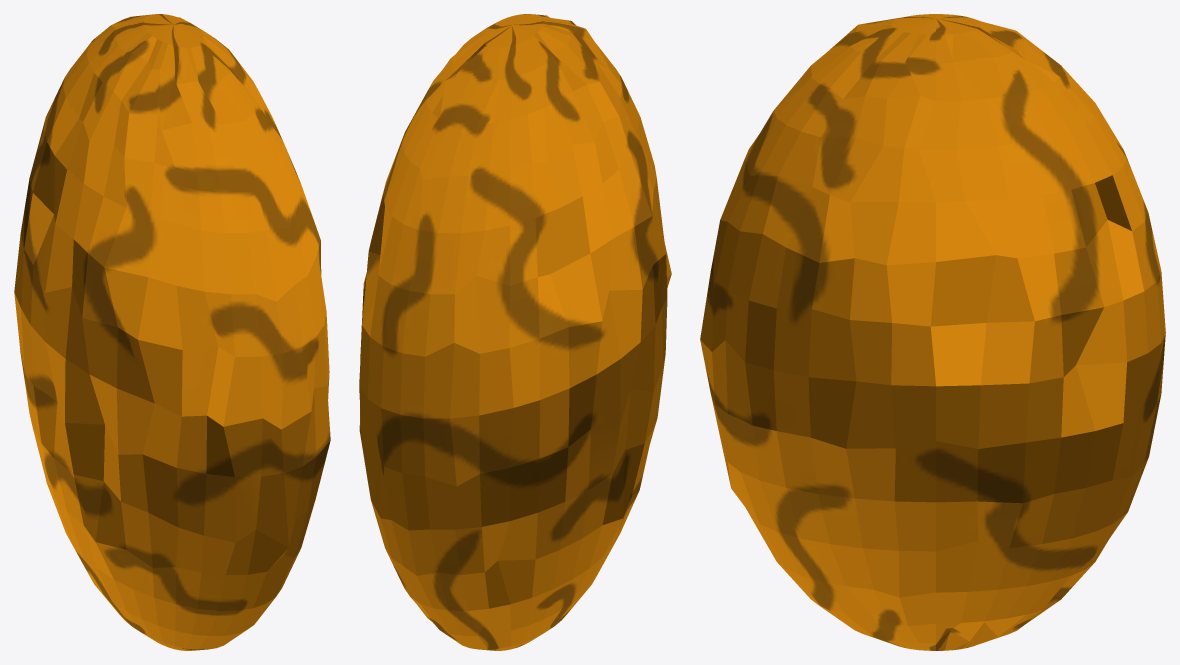
Rendered from item-chicken-nugget.glb.
3 views of the same model, side by side, from view 1: azimuth 30°, elevation 25°; view 2: azimuth 150°, elevation 25°; view 3: azimuth 270°, elevation 25° (orthographic). The views are drawn at different scales.
Bounding box in the file's own units: 0.7895 × 2.12 × 1.43.
Materials: 1 (1 with a texture image).
